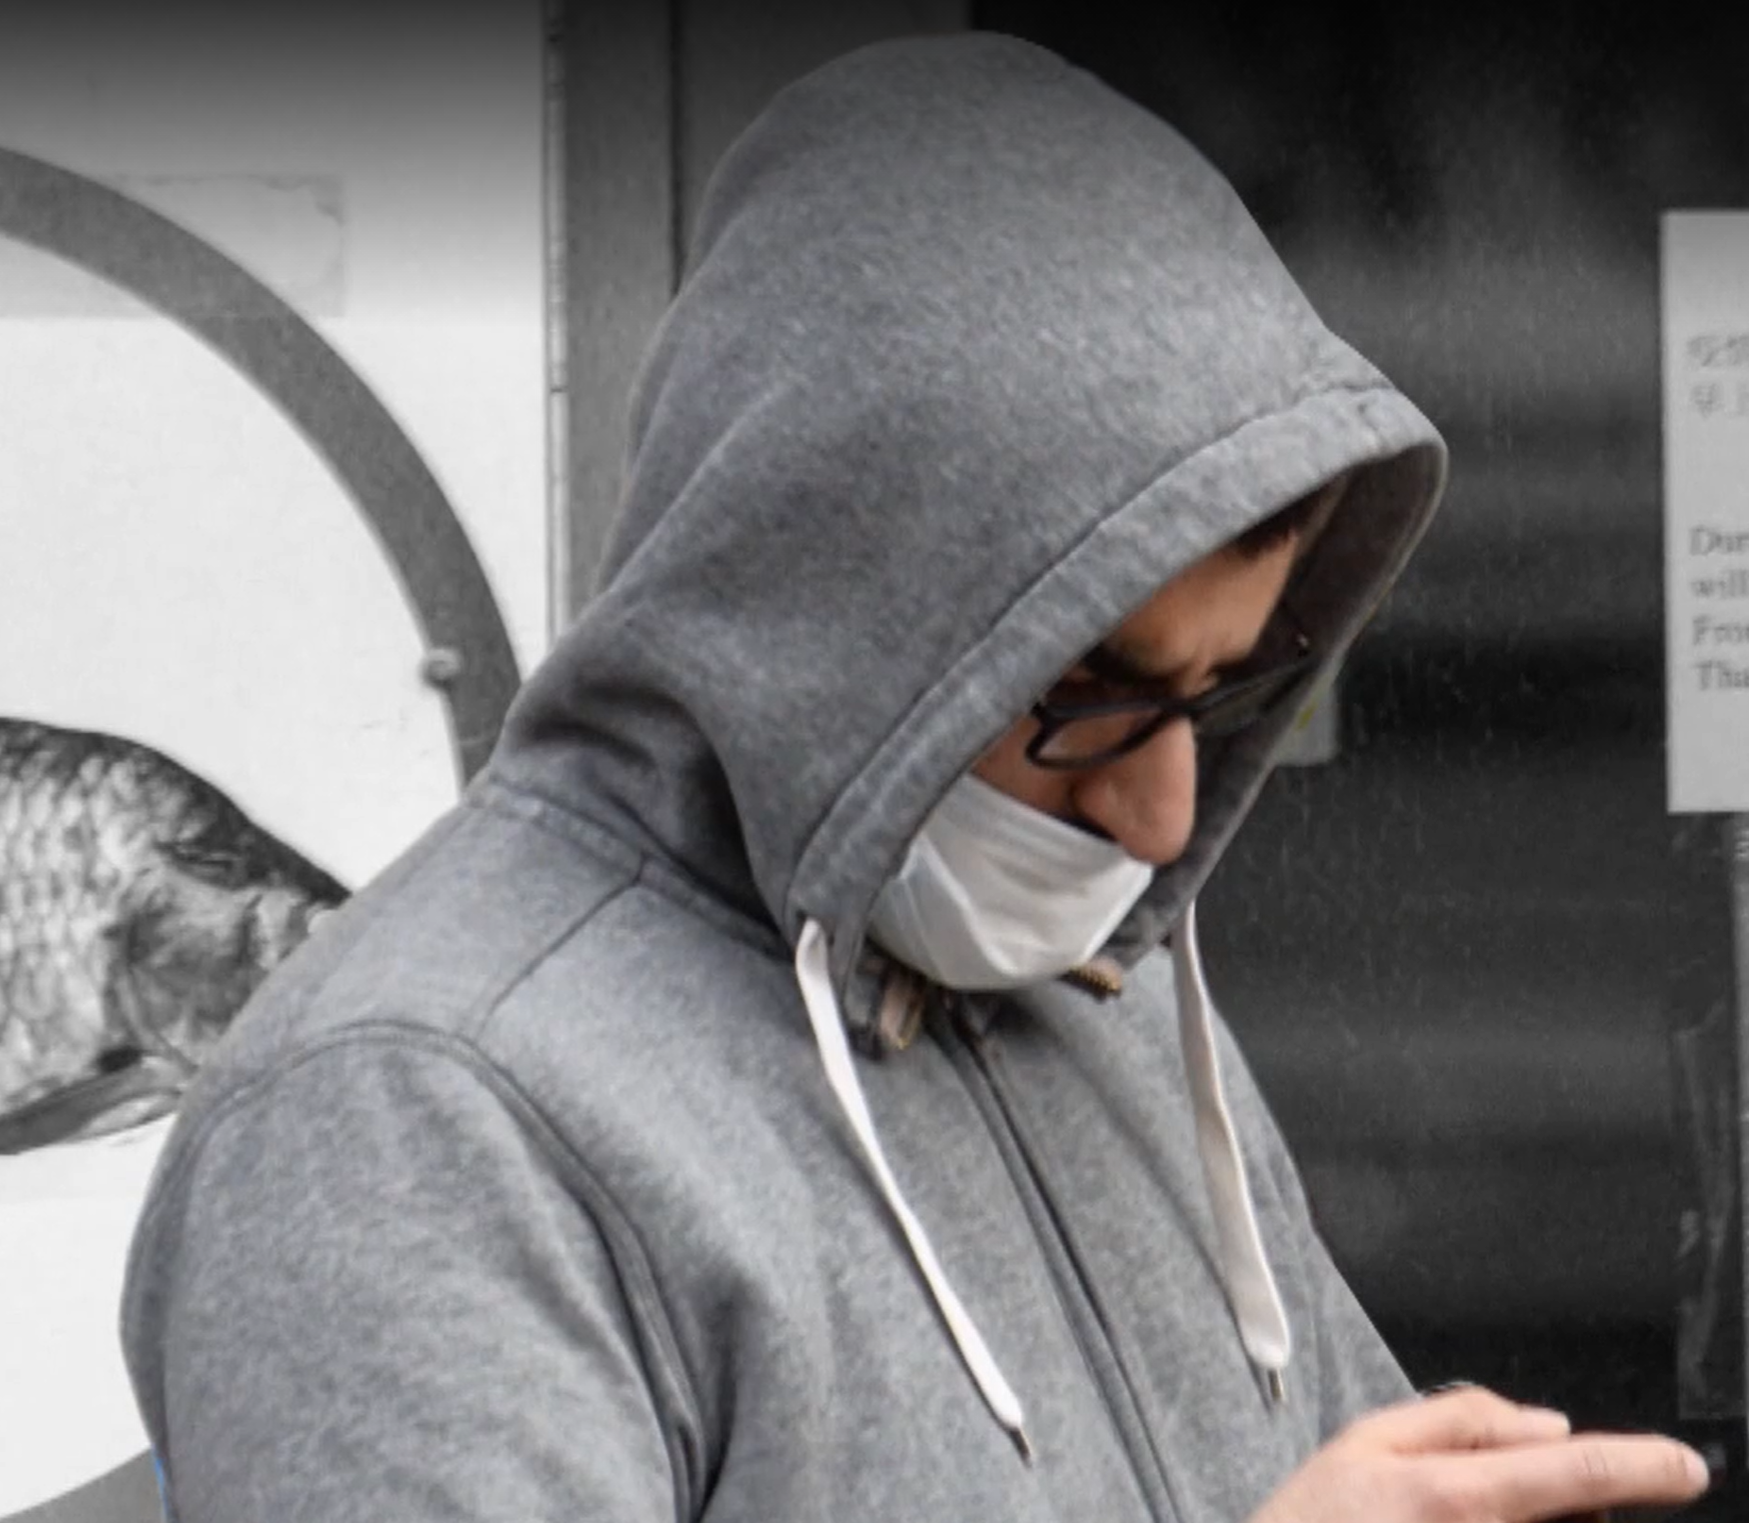mask_weared_incorrect: (837, 522, 1335, 1015)
